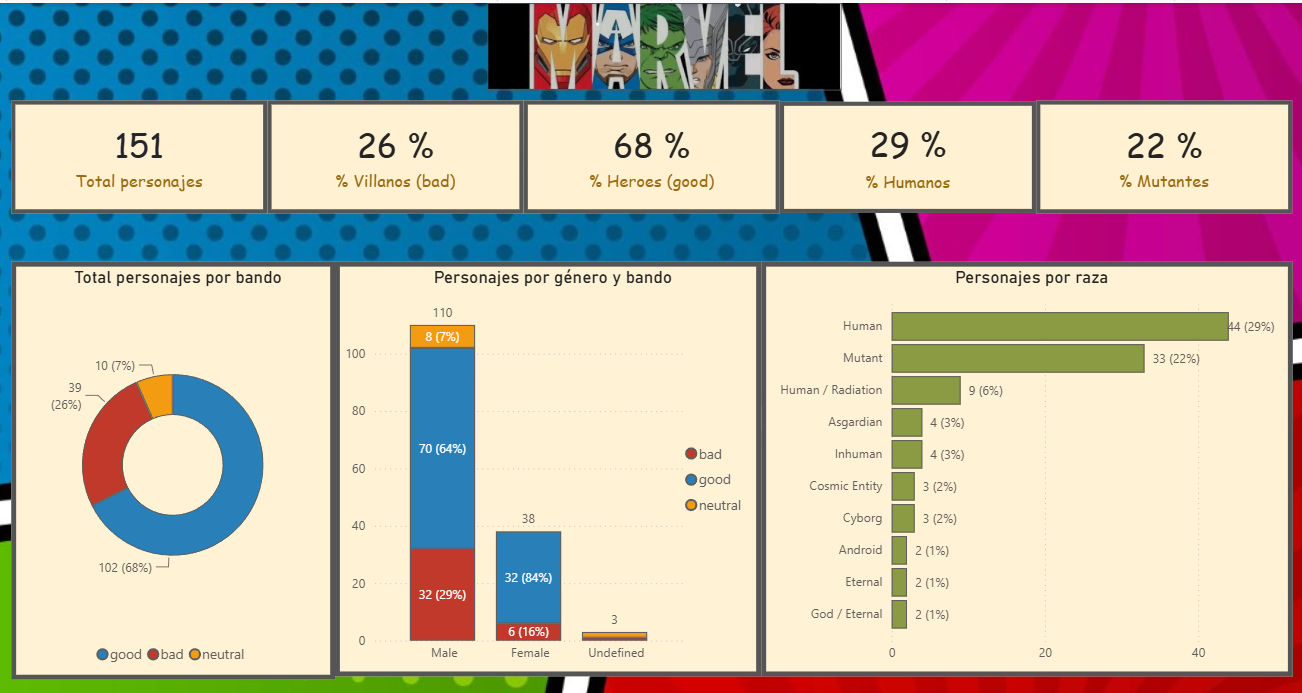

This screenshot's page, from the dashboard's own definition file:
{"tool":"powerbi","page":{"name":"Marvel general","canvas":[1280,720],"ordinal":1},"visuals":[{"type":"image","box":[479.4,0,346.1,85.6],"z":0},{"type":"cardVisual","fields":{"Data":["marvel_heroes_clean.Total"]},"box":[11,95.4,250.7,110.1],"z":1000},{"type":"cardVisual","fields":{"Data":["marvel_heroes_clean.% Villanos"]},"box":[261.7,95.4,250.7,110.1],"z":2000},{"type":"cardVisual","fields":{"Data":["marvel_buscador.% Humanos"]},"box":[763,96.6,250.7,108.8],"z":3000},{"type":"donutChart","title":"Total personajes por bando","fields":{"Category":["marvel_heroes_clean.Alignment"],"Y":["marvel_heroes_clean.Total"]},"box":[0,250.7,327.7,408.4],"z":4000},{"type":"clusteredBarChart","title":"Personajes por raza","fields":{"Category":["marvel_heroes_clean.Race"],"Y":["marvel_heroes_clean.Total"]},"box":[716.6,253.1,547.8,406],"z":5000},{"type":"columnChart","title":"Personajes por género y bando","fields":{"Category":["marvel_heroes_clean.Gender"],"Y":["marvel_heroes_clean.Total"],"Series":["marvel_heroes_clean.Alignment"]},"box":[327.7,253.1,397.4,406],"z":6000},{"type":"cardVisual","fields":{"Data":["marvel_heroes_clean.% Mutantes"]},"box":[1013.7,95.4,250.7,110.1],"z":7000},{"type":"cardVisual","fields":{"Data":["marvel_buscador.% Heroes (good)"]},"box":[512.4,95.4,250.7,110.1],"z":8000}]}

Visuals, with their boxes on the page's 1280x720 design canvas (x1, y1, x2, y2). These are canvas units, not pixel positions in the 1302x693 screenshot, which may show the page scaled, cropped or inside an application window:
image: [left=479, top=0, right=826, bottom=86]
cardVisual - marvel_heroes_clean.Total: [left=11, top=95, right=262, bottom=206]
cardVisual - marvel_heroes_clean.% Villanos: [left=262, top=95, right=512, bottom=206]
cardVisual - marvel_buscador.% Humanos: [left=763, top=97, right=1014, bottom=205]
"Total personajes por bando" donutChart: [left=0, top=251, right=328, bottom=659]
"Personajes por raza" clusteredBarChart: [left=717, top=253, right=1264, bottom=659]
"Personajes por género y bando" columnChart: [left=328, top=253, right=725, bottom=659]
cardVisual - marvel_heroes_clean.% Mutantes: [left=1014, top=95, right=1264, bottom=206]
cardVisual - marvel_buscador.% Heroes (good): [left=512, top=95, right=763, bottom=206]
